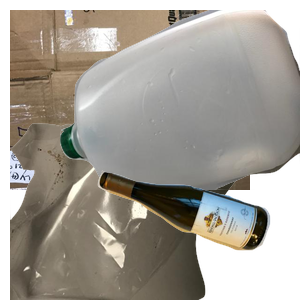cardboard: (10, 10, 250, 190)
glass: (95, 168, 300, 300)
plastic: (60, 10, 300, 190)
trash: (10, 120, 250, 300)
